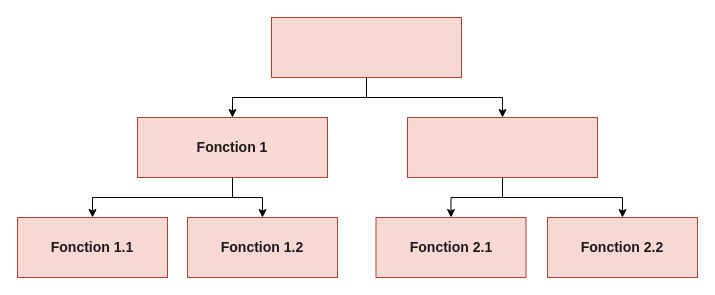
This 715x295 diagram has some shape labels left out. The shapes that lost their labels are listed below. From the top down, each one's box as (x1, y1, x2, y2) in pixels, then its label:
(270, 16, 462, 78): Processus Global
(406, 116, 598, 178): Fonction 2
